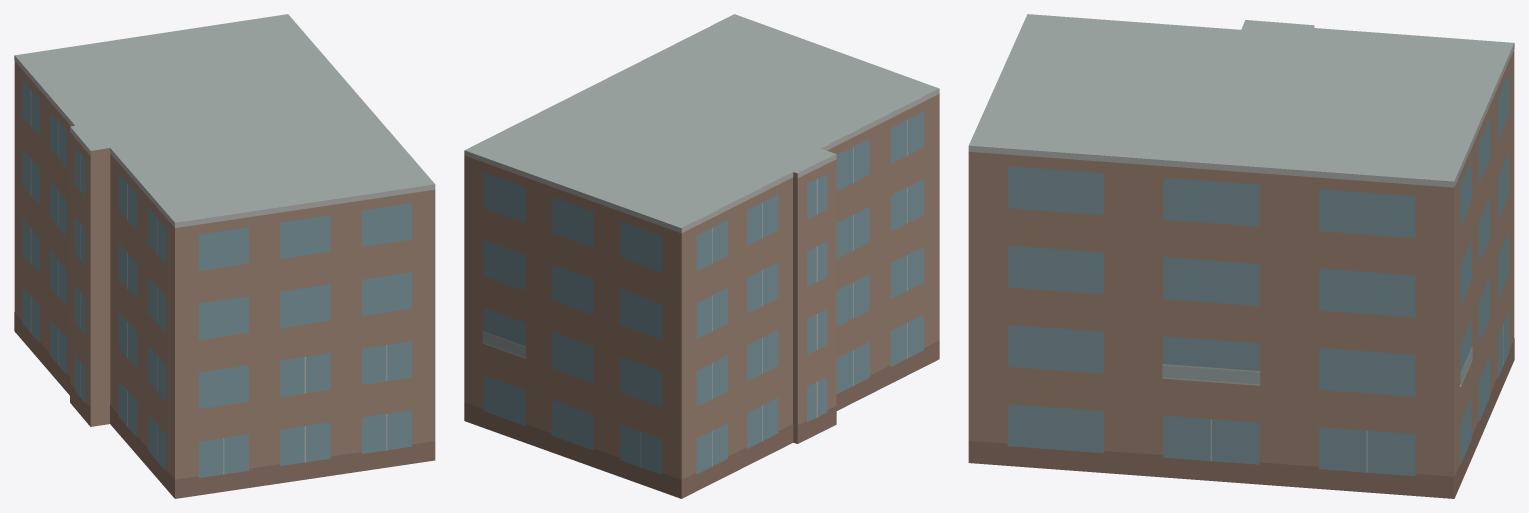
The model's file is survey-upis-33007110.glb.
The picture shows the model from 3 angles, left to right: view 1: azimuth 30°, elevation 25°; view 2: azimuth 150°, elevation 25°; view 3: azimuth 270°, elevation 25°; orthographic projection. The views are drawn at different scales.
Parts seen in each view (by area): view 1: survey-upis-33007110.tmp; view 2: survey-upis-33007110.tmp; view 3: survey-upis-33007110.tmp.
Boxes of the visible parts, x1,y1,x2,y2 form: survey-upis-33007110.tmp: [14, 14, 435, 498]; survey-upis-33007110.tmp: [464, 14, 939, 498]; survey-upis-33007110.tmp: [968, 14, 1514, 498].
Bounding box in the file's own units: 14.45 × 12.75 × 19.89.
